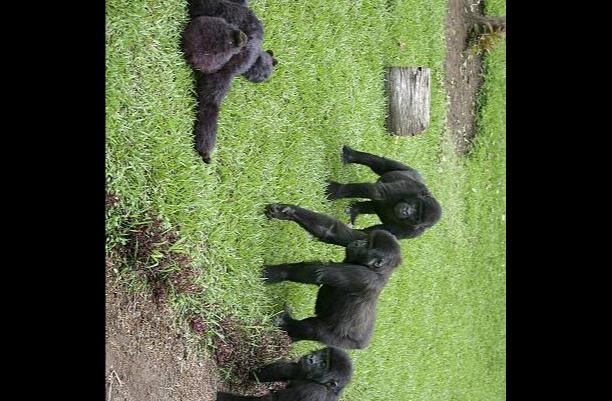goriile_montagne: (262, 204, 409, 350), (322, 144, 446, 245), (216, 343, 352, 401)
